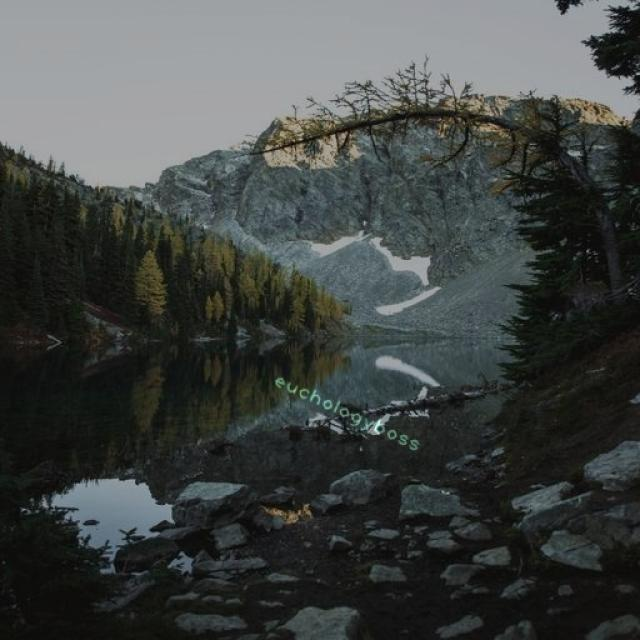watermark: (266, 370, 429, 454)
